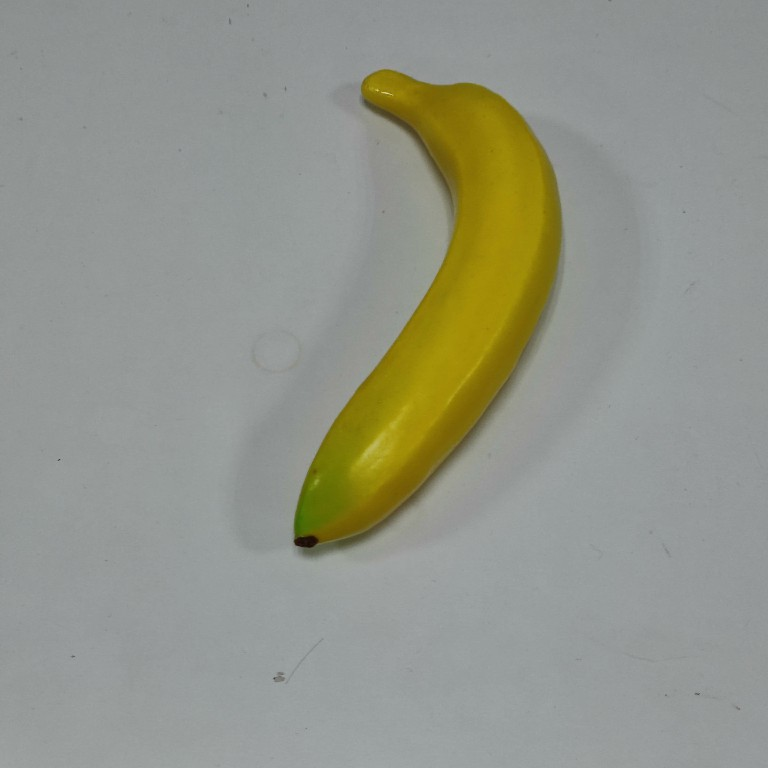fruit_banana: (285, 64, 570, 557)
